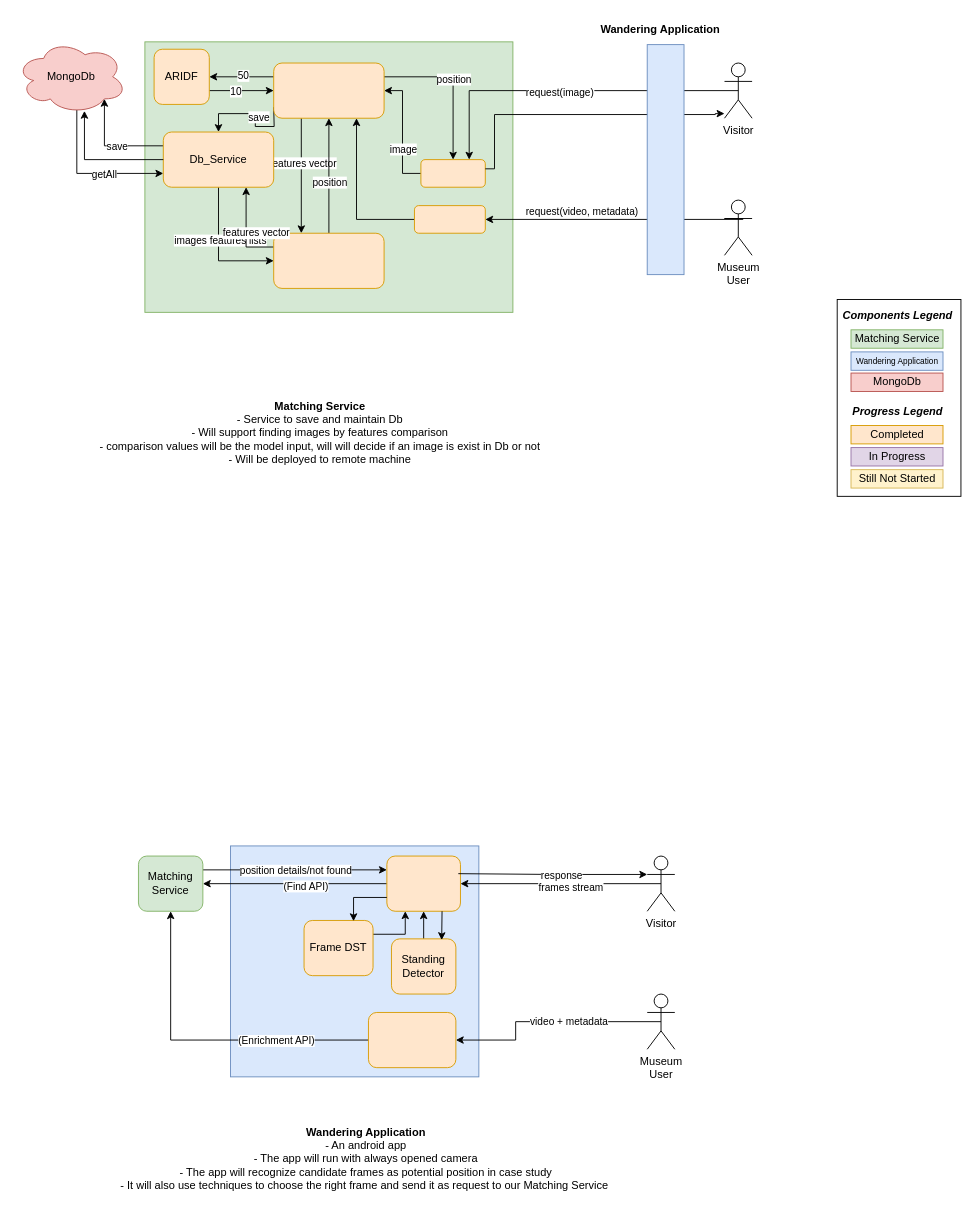
Some shapes in this 977 by 1211 pixel diagram are drawn without their labels. Here are the shapes that lost their labels. From the top down, the centre of each, then its label:
[328,90]: CLIP Features_Extractor
[452,173]: Find API
[449,219]: Enrichment API
[328,260]: Finding_Service
[423,883]: Frames Selector
[412,1040]: Enriching Service
